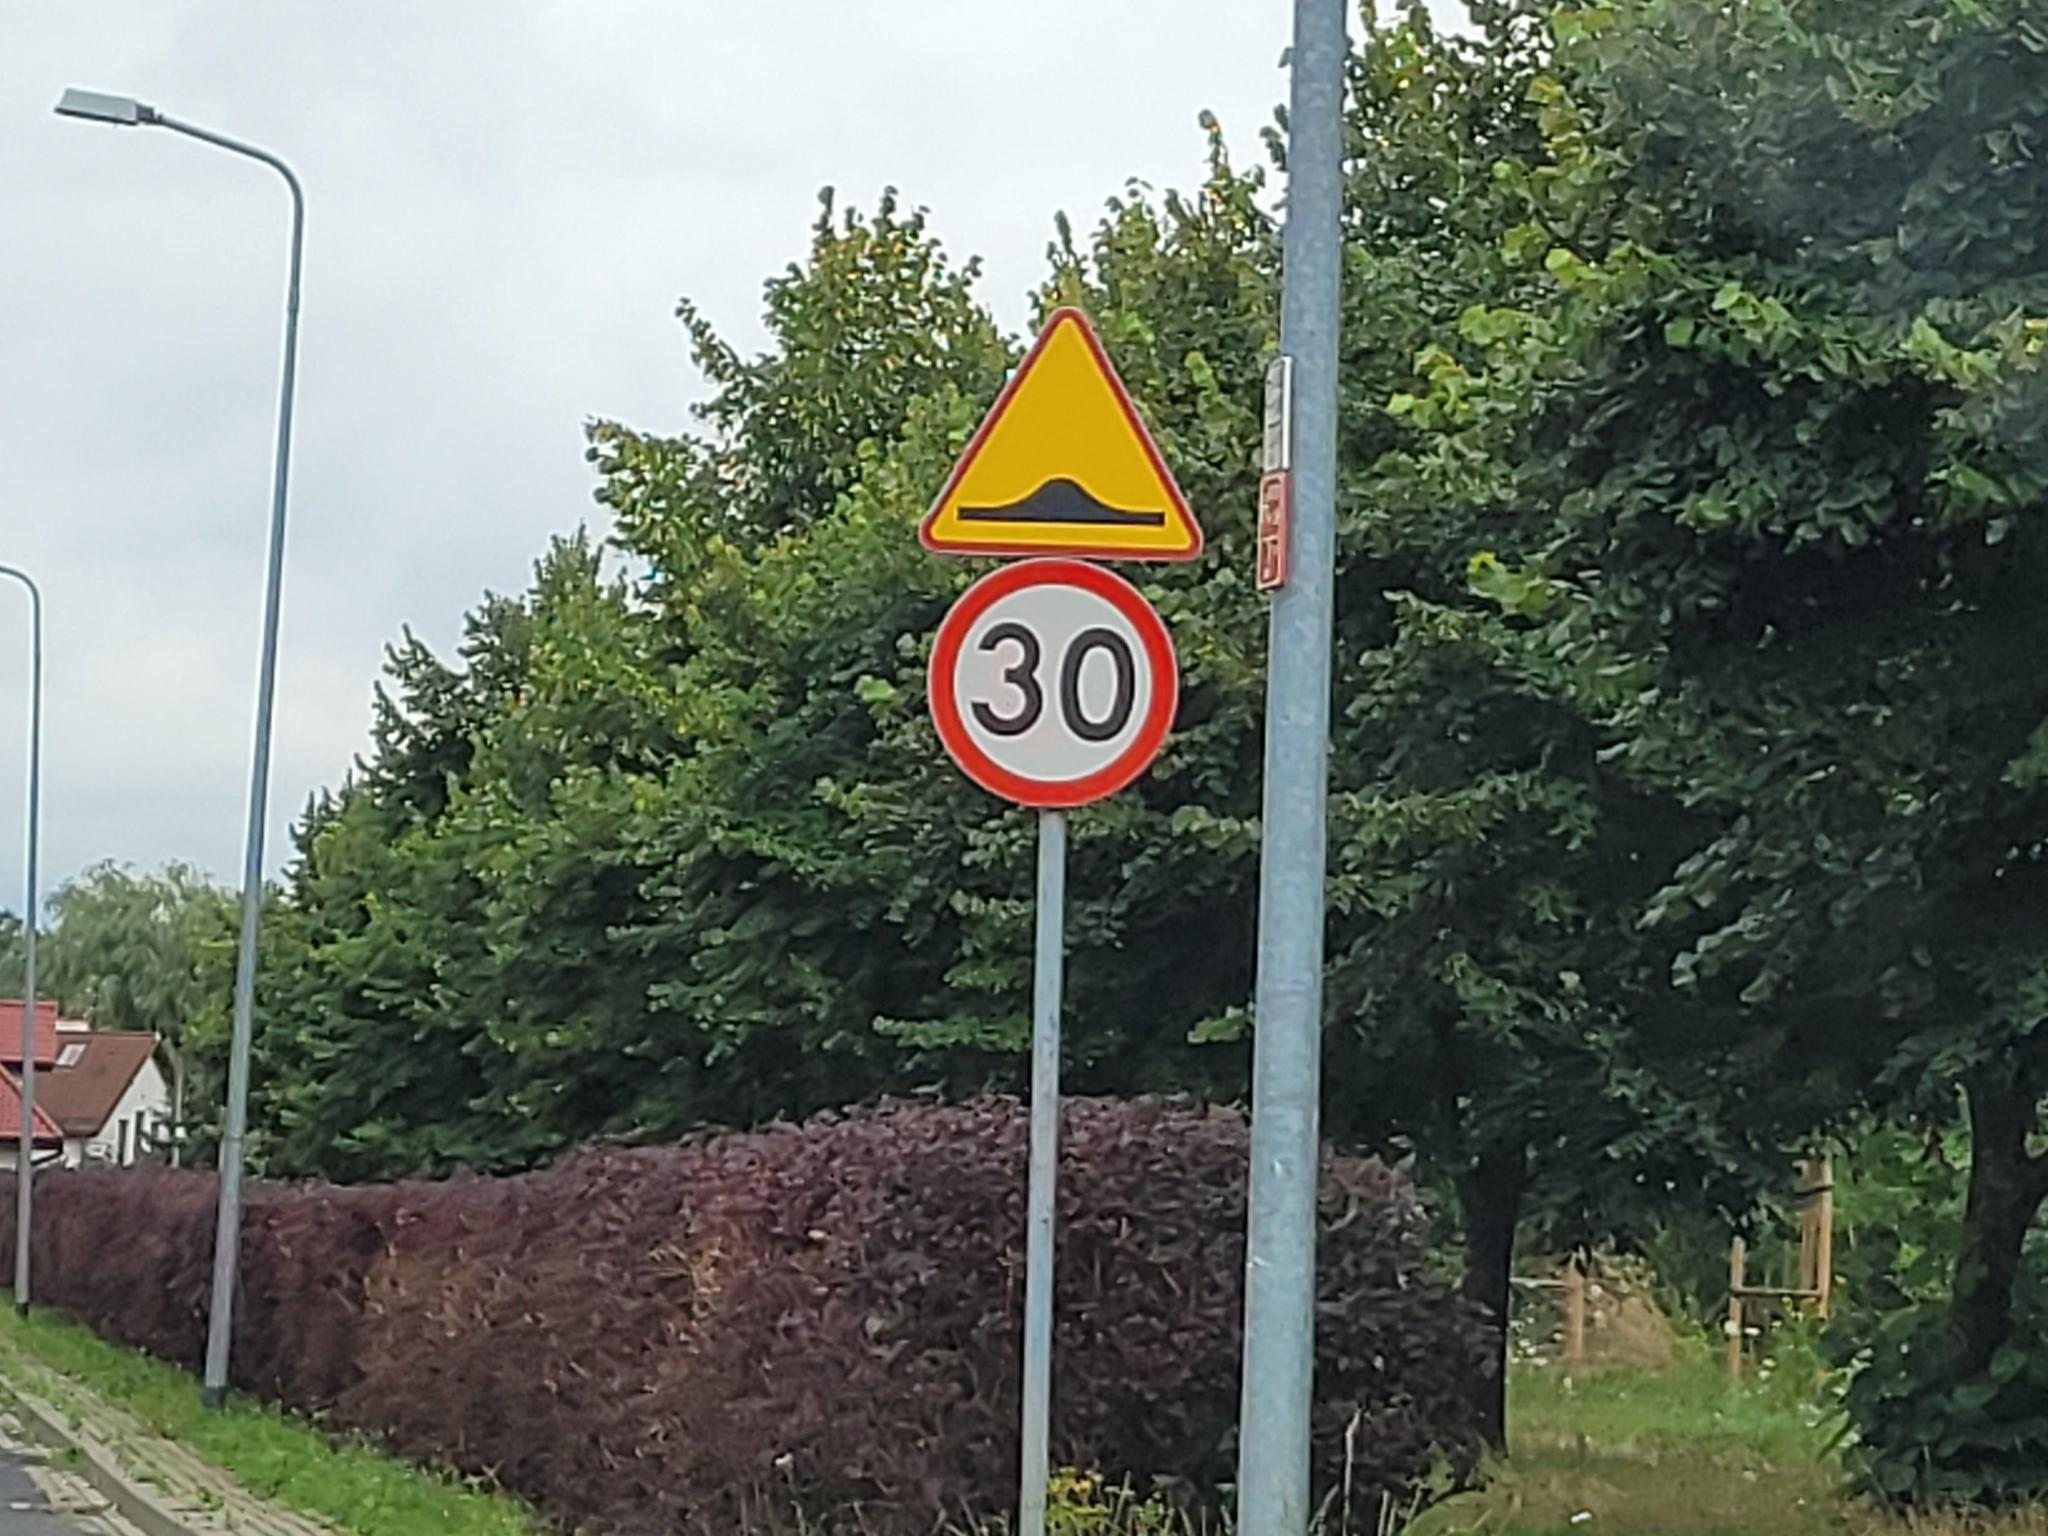prohibitory: (922, 558, 1185, 815)
warning: (918, 305, 1206, 561)
